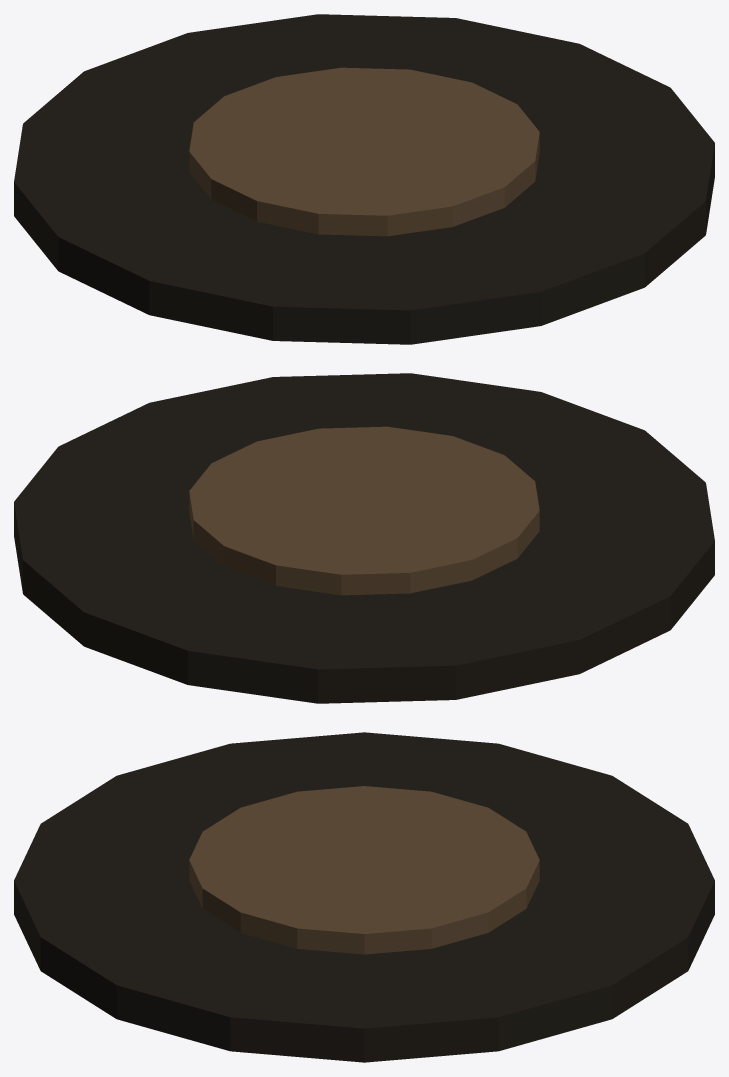
File: SilverPlate.fbx
The picture shows the model from 3 angles, top to bottom: view 1: azimuth 30°, elevation 25°; view 2: azimuth 150°, elevation 25°; view 3: azimuth 270°, elevation 25°; orthographic projection.
Parts seen in each view (by area): view 1: SilverPlate; view 2: SilverPlate; view 3: SilverPlate.
Boxes of the visible parts, <box> form: SilverPlate: <box>14,14,714,344</box>; SilverPlate: <box>14,373,714,703</box>; SilverPlate: <box>14,732,714,1062</box>.
Size of the model in its own units: 28 by 2.4 by 28.
Materials: 2 (2 with a texture image).
